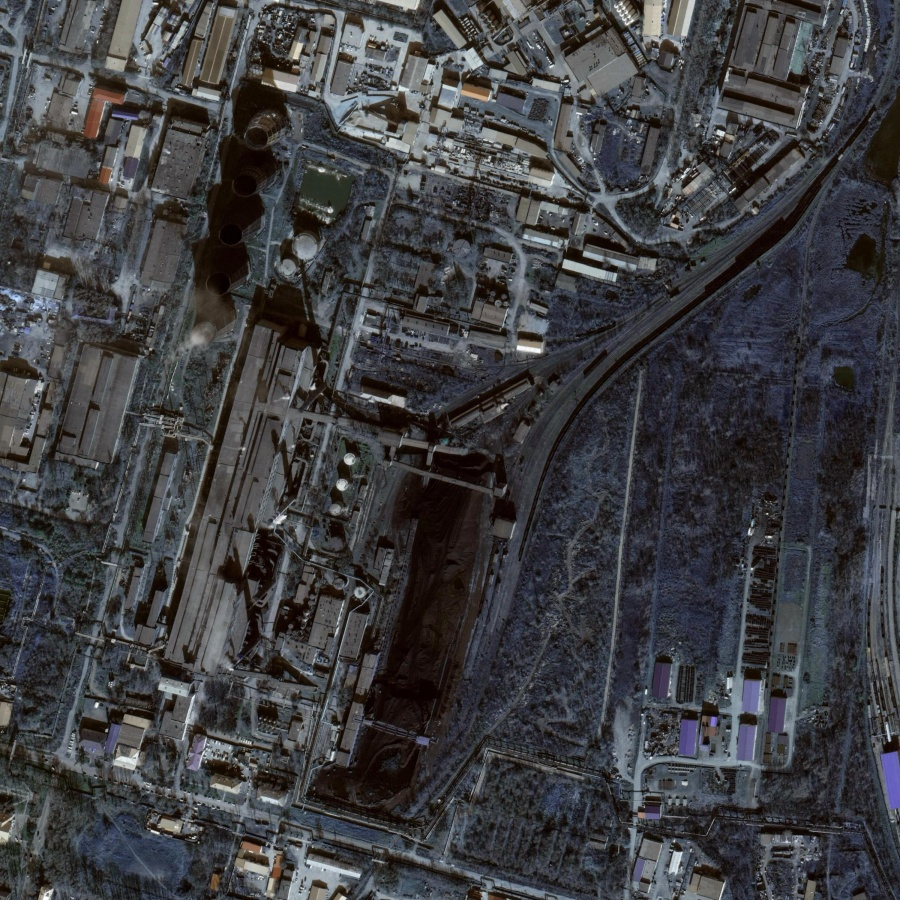PowerPlant: (213, 375, 518, 809), (160, 61, 330, 400)
